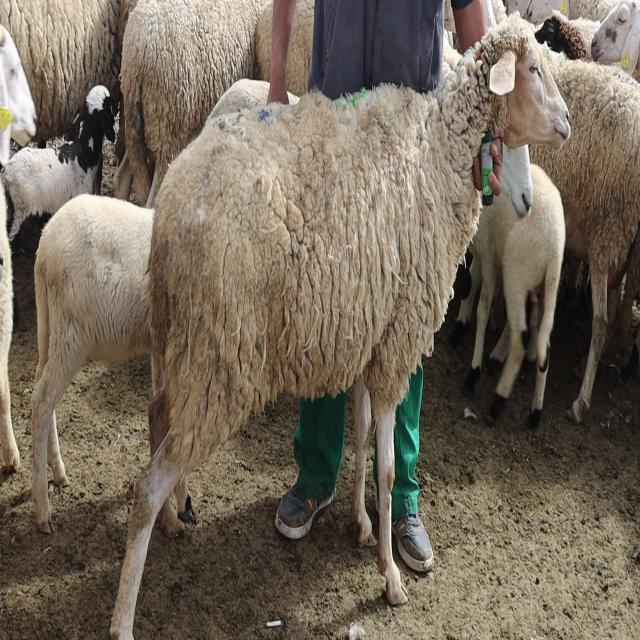Score_3: (110, 15, 570, 639)
